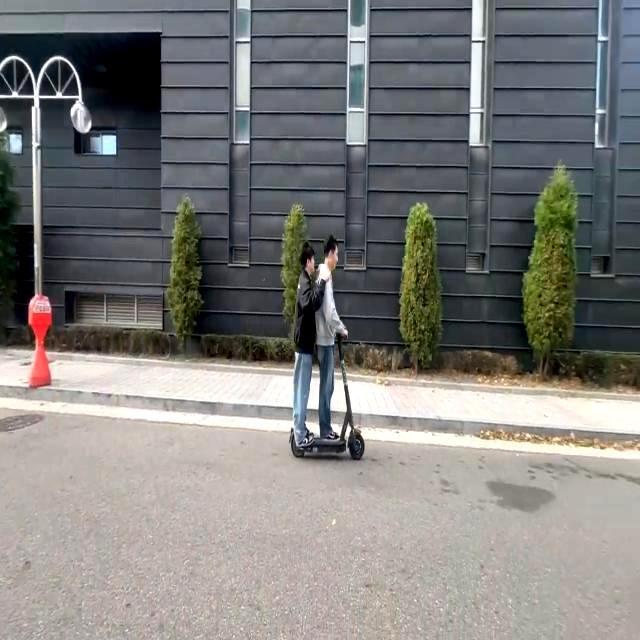bare_head: (318, 232, 341, 270), (296, 239, 318, 277)
human: (312, 235, 346, 445), (291, 237, 315, 447)
kickboard: (284, 426, 369, 461)
